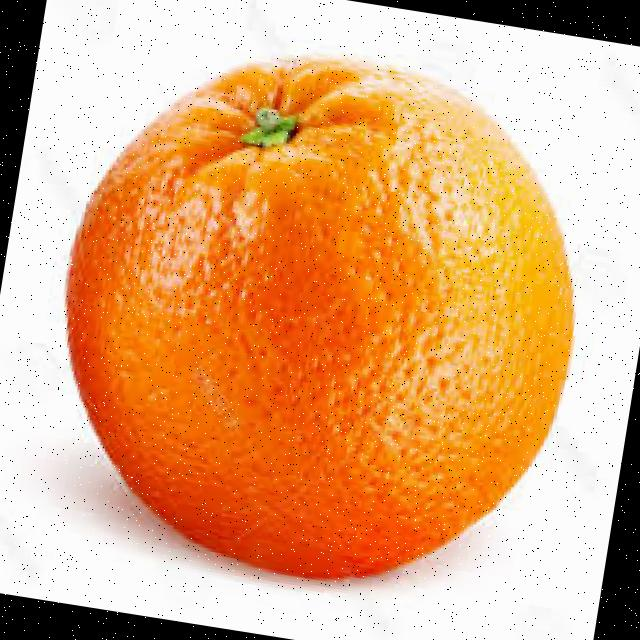orange: (29, 21, 616, 616)
